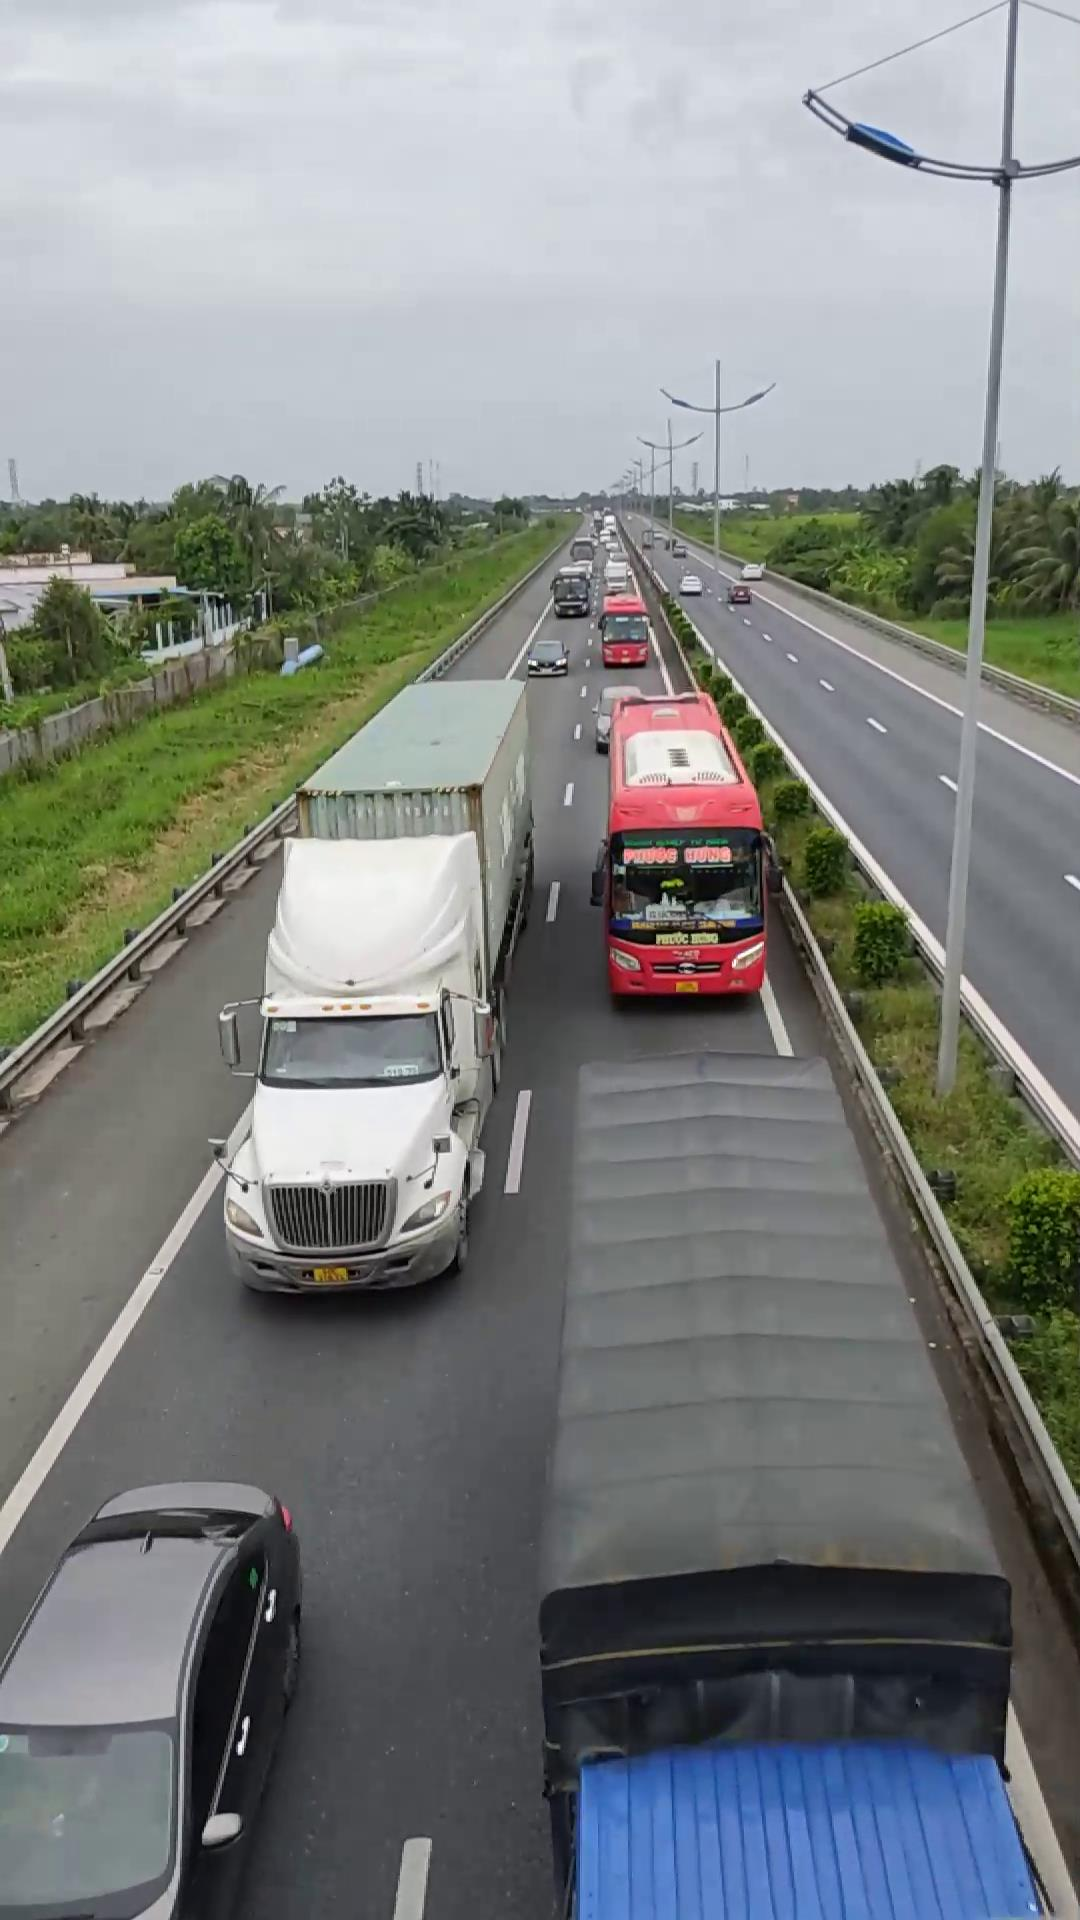bus: (592, 685, 776, 1001)
car: (0, 1479, 309, 1918)
truck: (556, 1046, 1041, 1900), (217, 668, 530, 1295)
